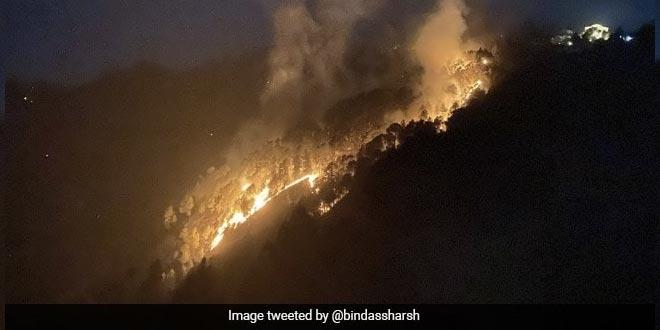fire: (204, 169, 318, 246)
